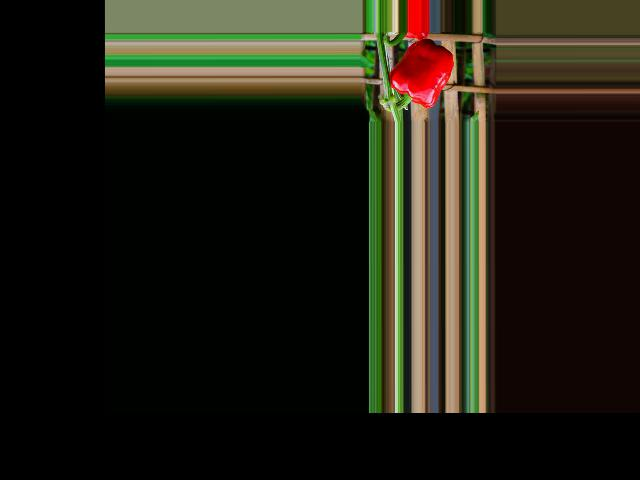bell_pepper: (384, 39, 458, 107)
